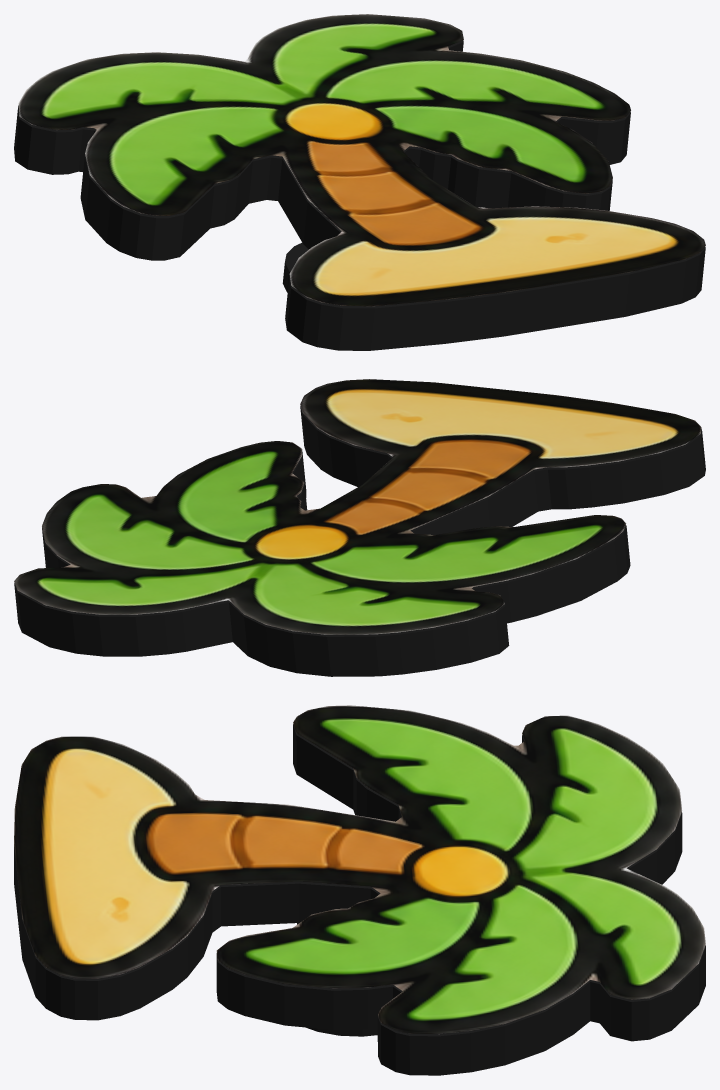
Rendered from travel-palm-tree.glb.
3 renders of one model, top to bottom at view 1: azimuth 30°, elevation 25°; view 2: azimuth 150°, elevation 25°; view 3: azimuth 270°, elevation 25°, orthographic. The views are drawn at different scales.
Parts seen in each view (by area): view 1: TRAVEL_Palm_Tree_MODEL; view 2: TRAVEL_Palm_Tree_MODEL; view 3: TRAVEL_Palm_Tree_MODEL.
Part boxes in pixels (<box>): TRAVEL_Palm_Tree_MODEL: <box>14,14,705,350</box>; TRAVEL_Palm_Tree_MODEL: <box>14,379,705,676</box>; TRAVEL_Palm_Tree_MODEL: <box>14,705,705,1075</box>.
Size of the model in its own units: 0.3545 by 0.1016 by 0.3843.
Materials: 3 (1 with a texture image).
